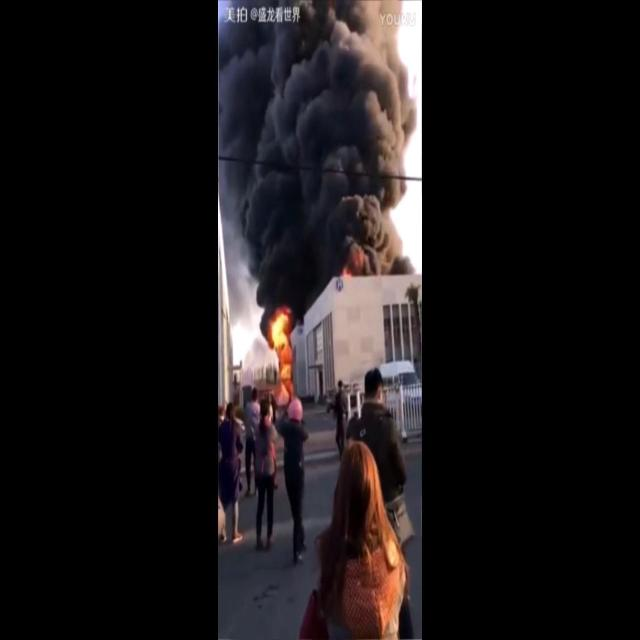fire: (270, 310, 292, 376)
smoke: (215, 2, 414, 314)
